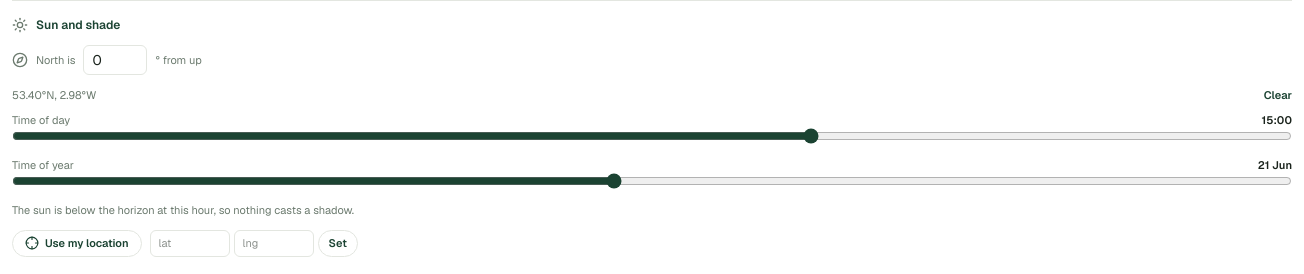
Scenario: location, which is the gate › can be cleared, which puts the drawing back on its conventional light
Click the button with test id "clear-location".
click(1278, 95)  # box left=1264, top=87, right=1292, bottom=104
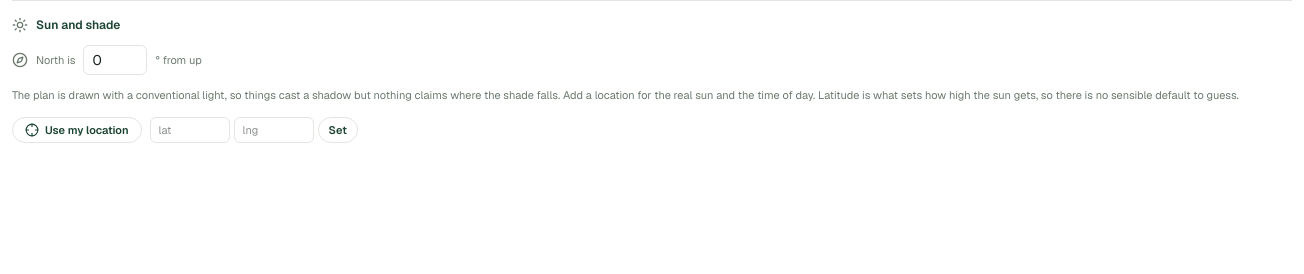
Result: the text with test id "sun-unset" is shown at left=12, top=87, right=1292, bottom=105
